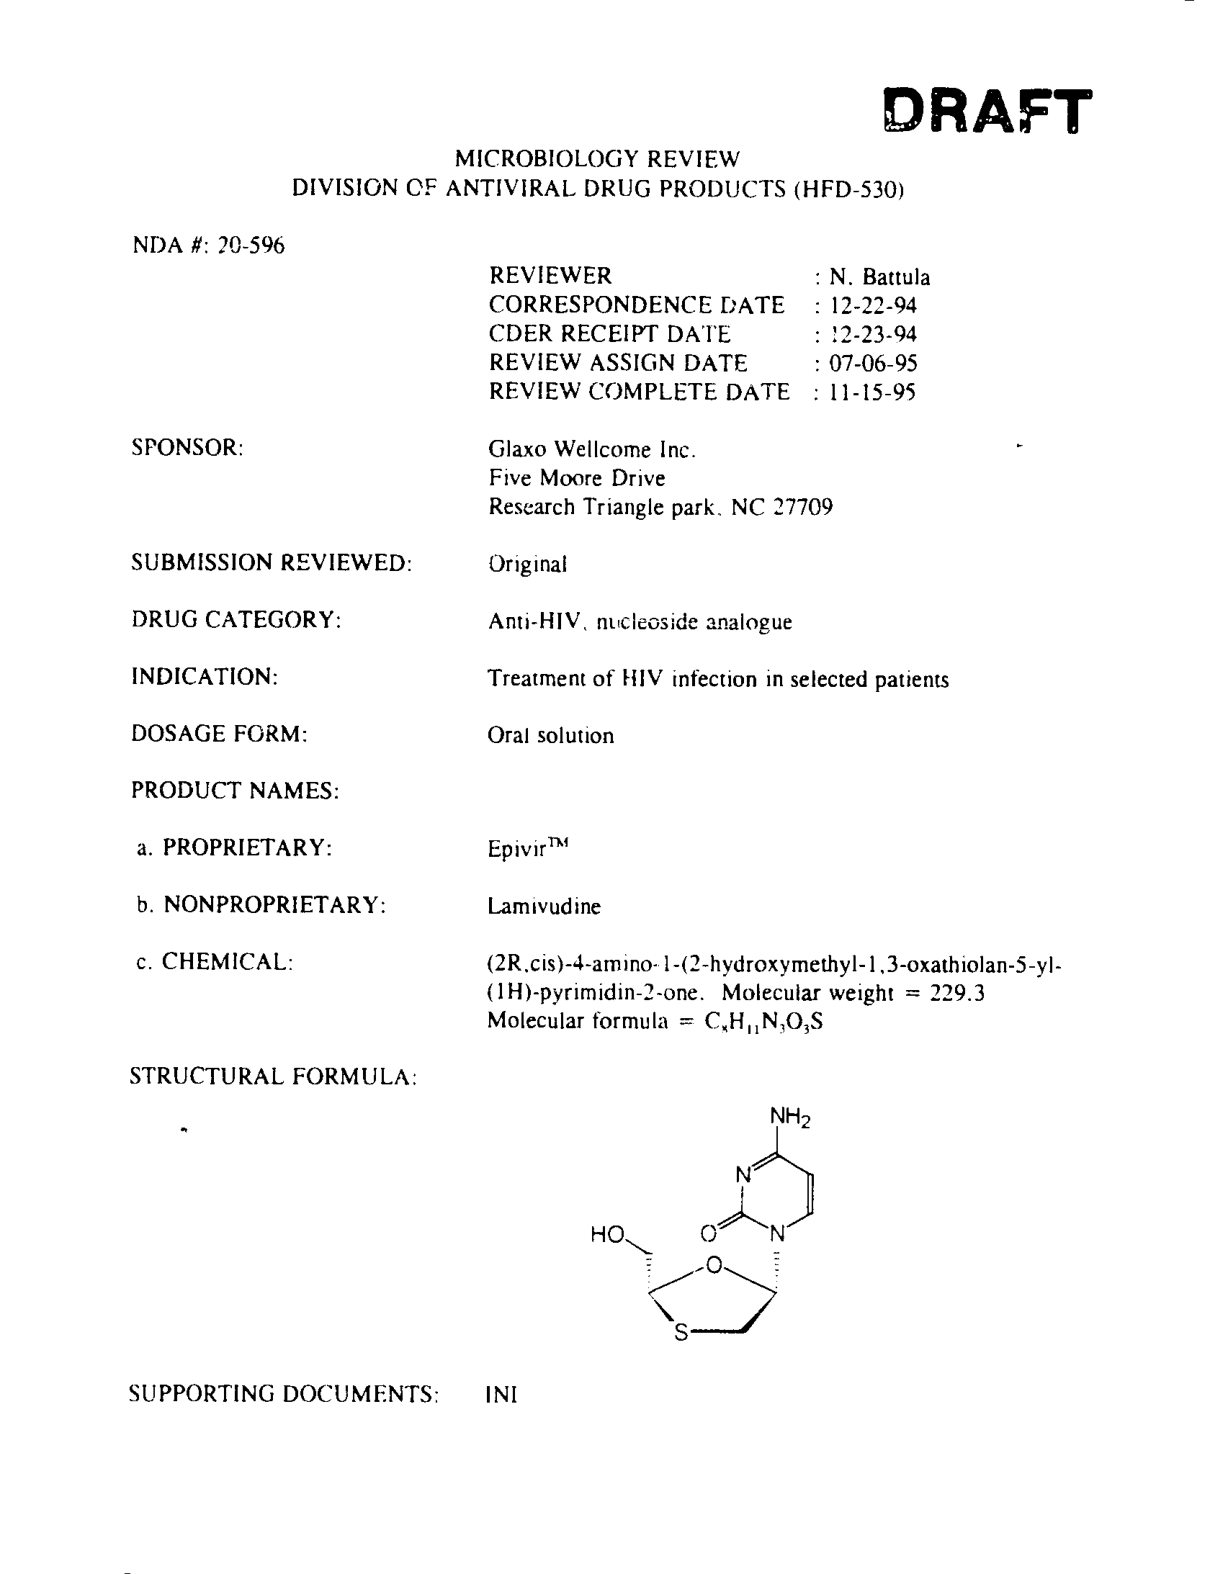nolines: (125, 232, 1068, 1406)
